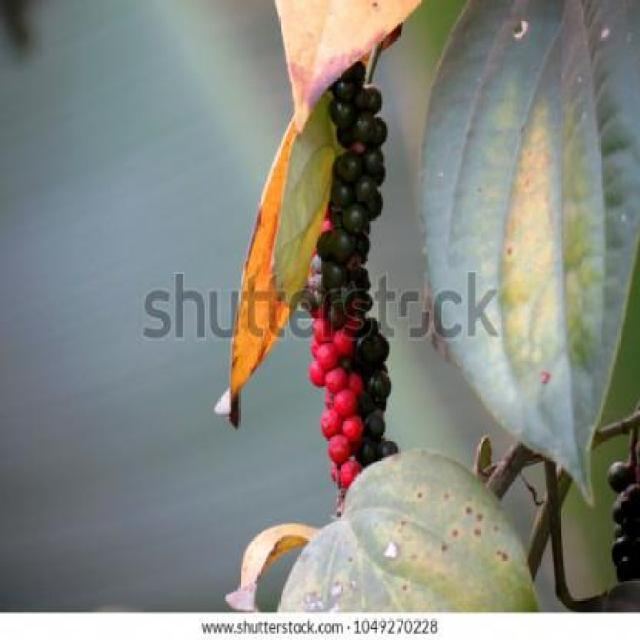RIPE: (309, 317, 354, 489)
